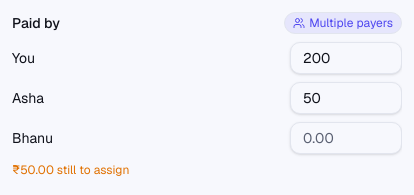
PayersEditor › tells you how much is still to assign, or how far over you are
Expected: the message reads "₹50.00 still to assign", [12,162,129,178]
Replace the text in the number field named "paid by asha" with "150" at (346, 98), box [290,82,402,114]
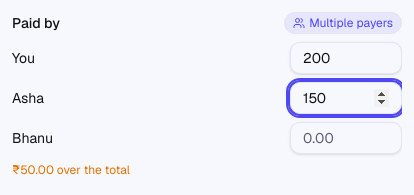
Now the message reads "₹50.00 over the total", box [12,162,130,178]
Replace the text in the number field named "paid by asha" with "100" at (346, 98), box [290,82,402,114]
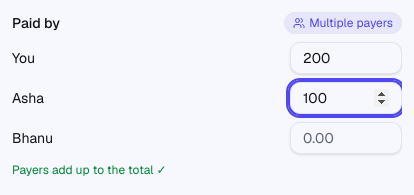
Now the message shows "add up to the total", box [12,162,166,178]
